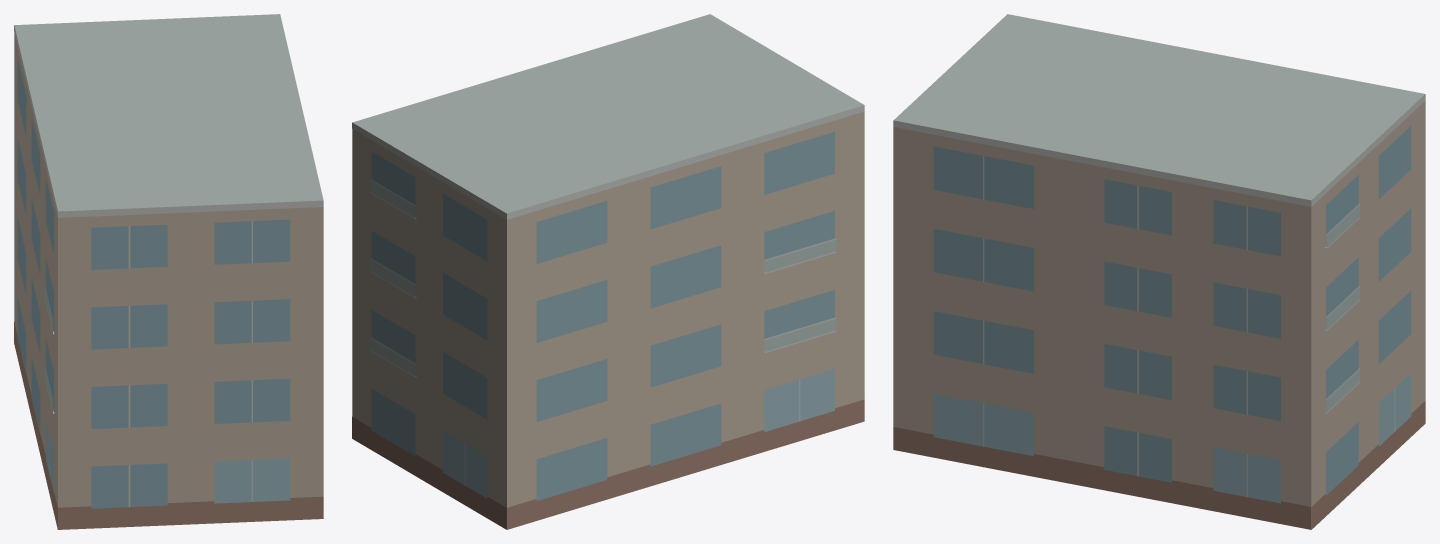
File: residential-93a30a5e-9aac-432a-82f3-37bc29360337.glb
3 renders of one model, left to right at view 1: azimuth 30°, elevation 25°; view 2: azimuth 150°, elevation 25°; view 3: azimuth 270°, elevation 25°, orthographic. The views are drawn at different scales.
Parts seen in each view (by area): view 1: residential-93a30a5e-9aac-432a-82f3-37bc29360337.tmp; view 2: residential-93a30a5e-9aac-432a-82f3-37bc29360337.tmp; view 3: residential-93a30a5e-9aac-432a-82f3-37bc29360337.tmp.
Boxes of the visible parts, x1,y1,x2,y2 form: residential-93a30a5e-9aac-432a-82f3-37bc29360337.tmp: (14,14,323,529); residential-93a30a5e-9aac-432a-82f3-37bc29360337.tmp: (352,14,864,529); residential-93a30a5e-9aac-432a-82f3-37bc29360337.tmp: (893,14,1425,529).
Bounding box in the file's own units: 14.81 × 12.2 × 17.87.
